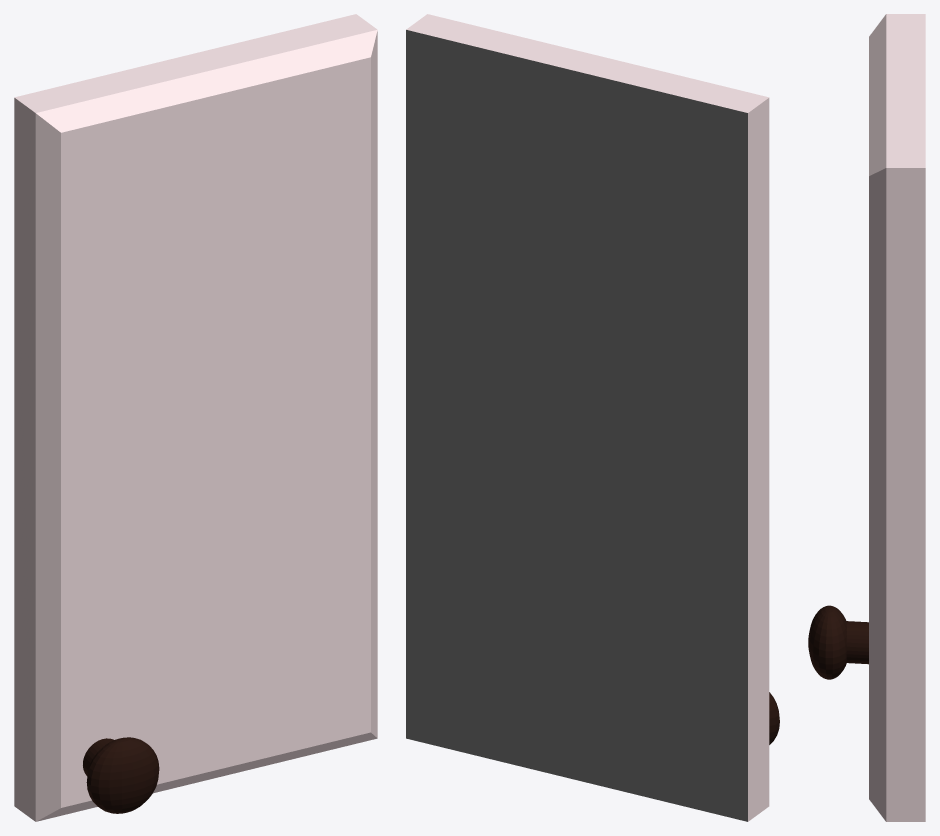
File: PortaDireita.fbx
3 renders of one model, left to right at view 1: azimuth 30°, elevation 25°; view 2: azimuth 150°, elevation 25°; view 3: azimuth 270°, elevation 25°, orthographic. The views are drawn at different scales.
Visible parts, largest first — view 1: Cube.001; view 2: Cube.001; view 3: Cube.001.
Boxes of the visible parts, x1,y1,x2,y2 form: Cube.001: (14,14,377,821); Cube.001: (406,14,779,821); Cube.001: (808,14,925,821).
Bounding box in the file's own units: 89.15 × 177 × 28.78.
